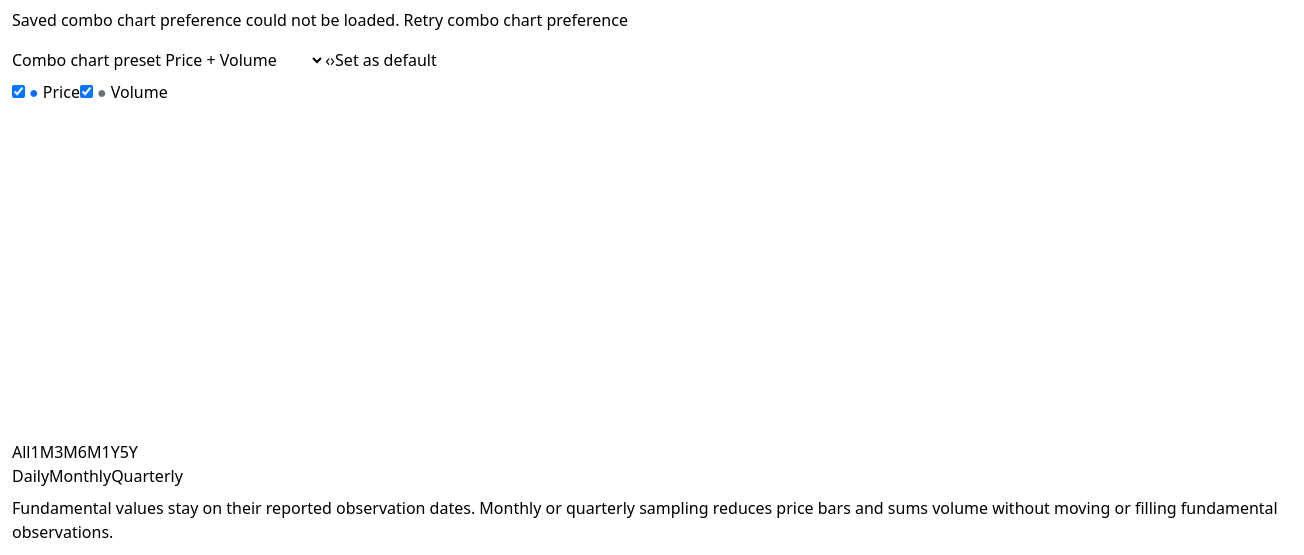
dashboard and combo chart recovery › does not present a fallback as the saved default when account preference is unavailable
Expected: the text "Saved combo chart preference could not be loaded." is shown, [12,9,399,31]
Expected: the button "Default chart" is not shown
Click the button "Retry combo chart preference" at (516, 20), box [404,8,628,32]
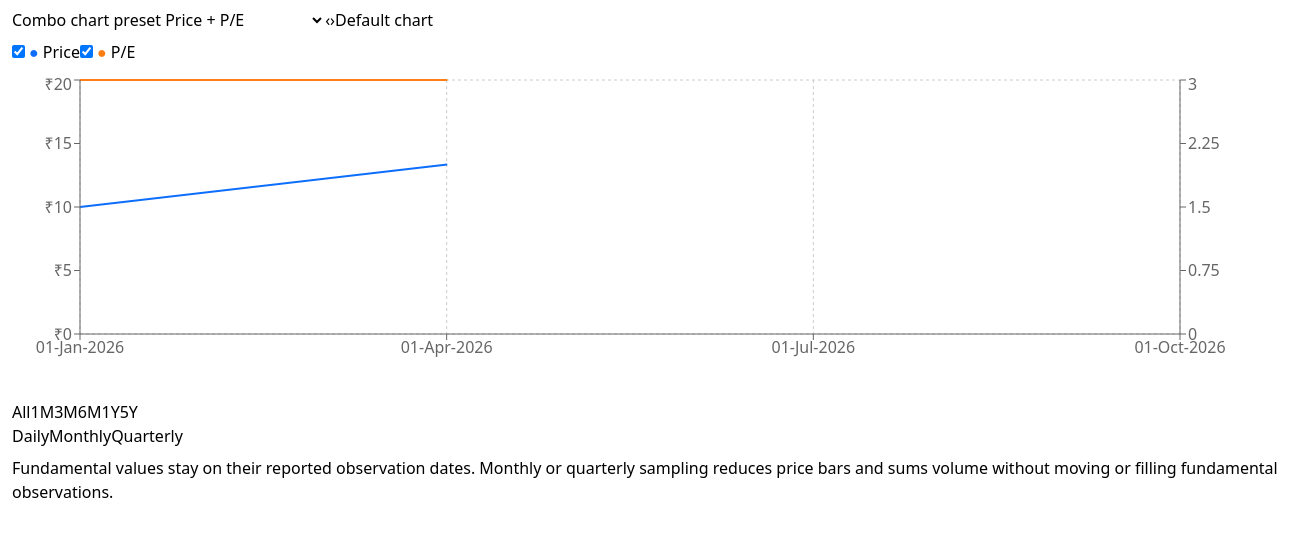
Expected: the dropdown labelled "Combo chart preset" shows "Price + P/E", [161,8,325,32]
Expected: the button "Default chart" is disabled, [335,8,433,32]
